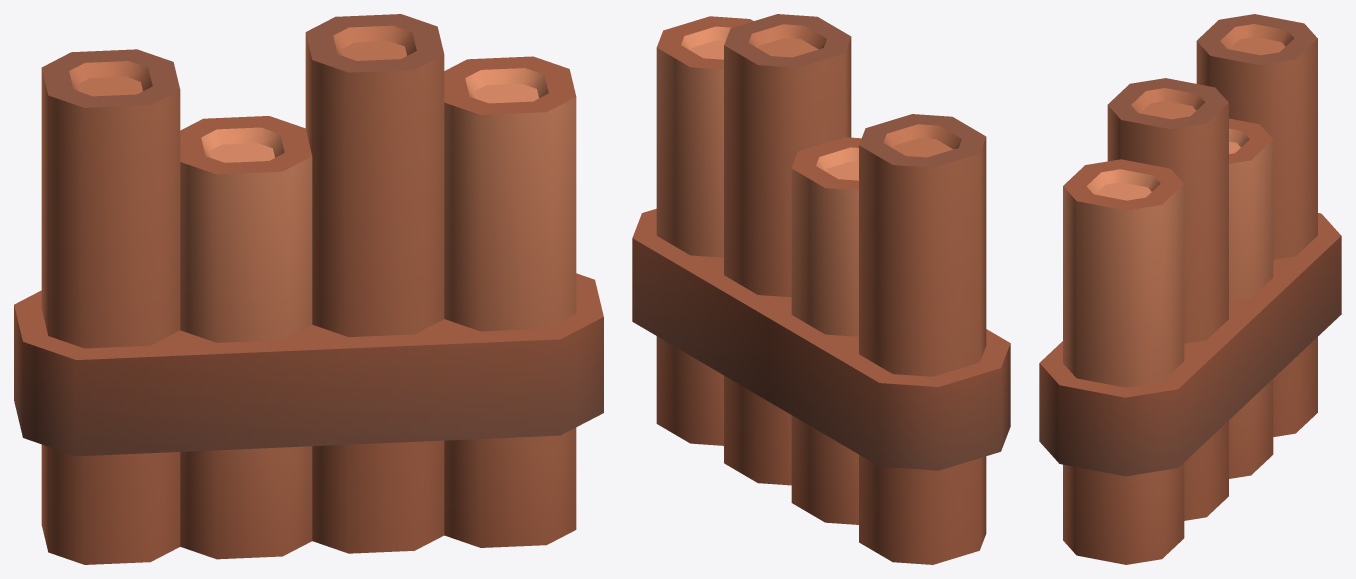
Rendered from n5_n5_poles_lev5.006.glb.
The picture shows the model from 3 angles, left to right: view 1: azimuth 30°, elevation 25°; view 2: azimuth 150°, elevation 25°; view 3: azimuth 270°, elevation 25°; orthographic projection. The views are drawn at different scales.
Parts seen in each view (by area): view 1: n5_n5_poles_lev5.006; view 2: n5_n5_poles_lev5.006; view 3: n5_n5_poles_lev5.006.
Part boxes in pixels (x1,y1,x2,y2): n5_n5_poles_lev5.006: [14, 14, 603, 564]; n5_n5_poles_lev5.006: [632, 14, 1010, 564]; n5_n5_poles_lev5.006: [1039, 14, 1341, 564].
Size of the model in its own units: 5.31 by 4.96 by 3.45.
Materials: 1 (1 with a texture image).
